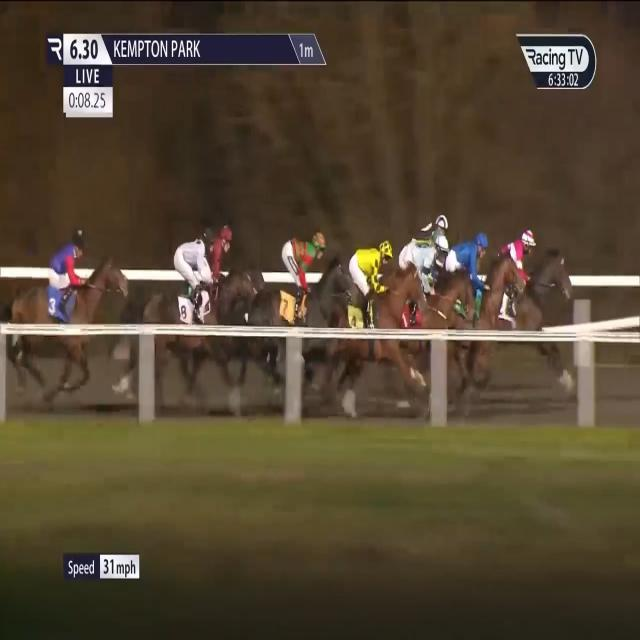horses-racing: (10, 216, 135, 392), (314, 236, 415, 384), (467, 228, 564, 362), (148, 225, 213, 387), (253, 221, 328, 357), (424, 230, 494, 359), (188, 221, 250, 321), (400, 232, 460, 324), (408, 213, 445, 250)
